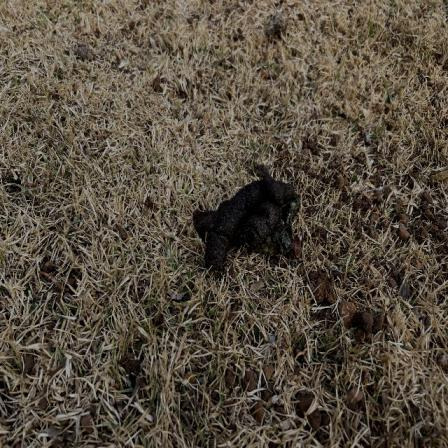dog-poop: (189, 164, 311, 272)
